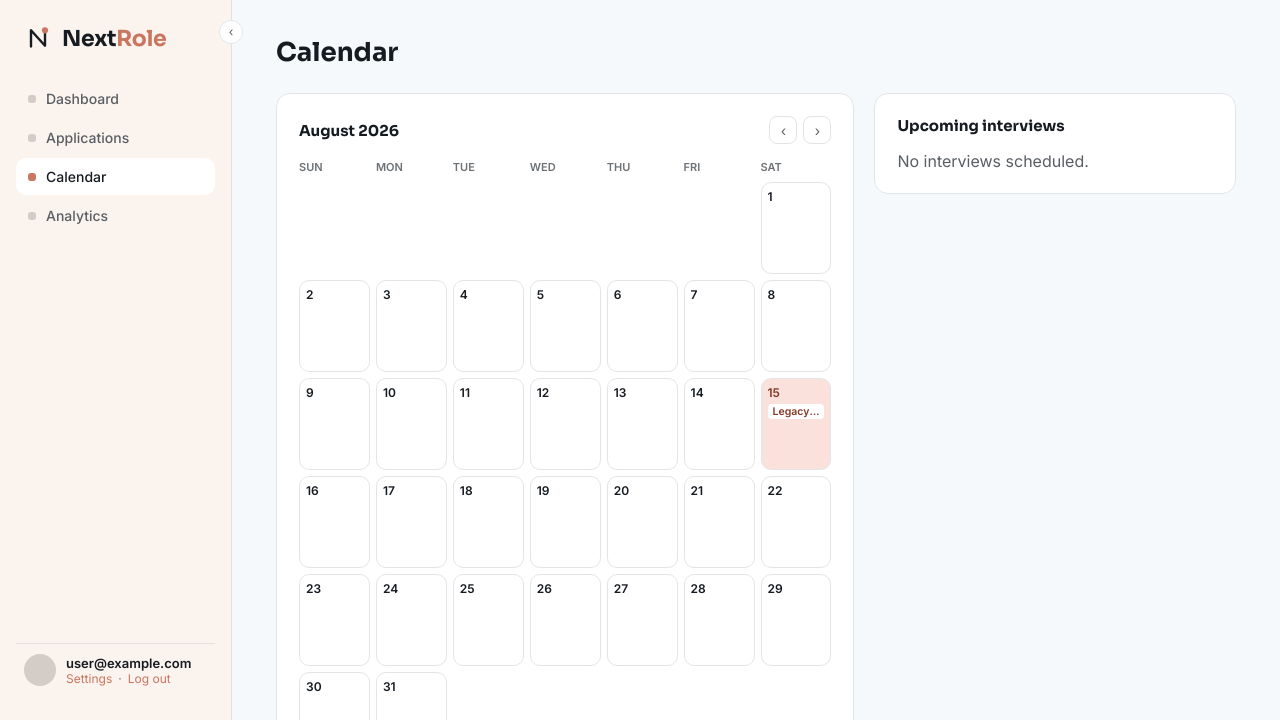
Test case: CalendarPage › shows a past interview when clicking the day it happened on
Expected: the text "No interviews scheduled." is shown, [898,151,1089,171]
Click the element showing "15 Legacy Corp 6:00 AM": (796, 424) [760,378,831,470]
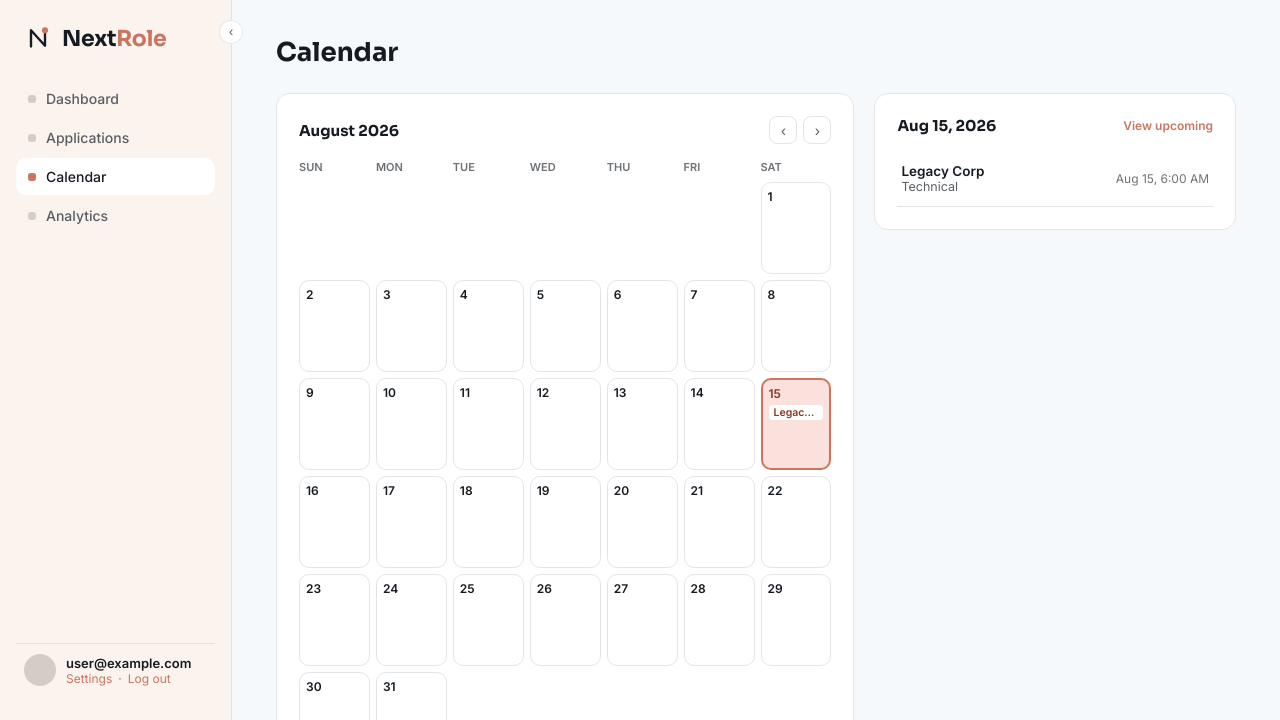
Expected: the text "Legacy Corp" is shown, [902,163,984,179]
Expected: the link "View upcoming" is shown, [1123,118,1213,133]
